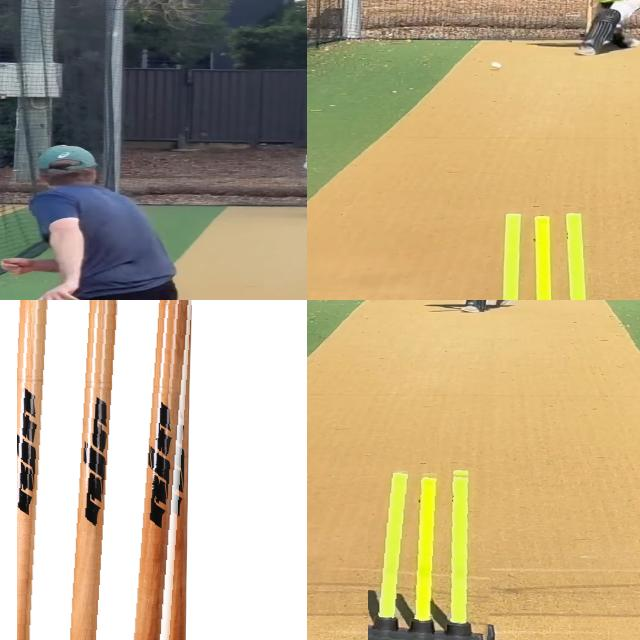Cricket ball: (490, 61, 503, 69)
Stumps: (17, 300, 194, 640), (368, 468, 497, 640), (485, 212, 610, 300)
